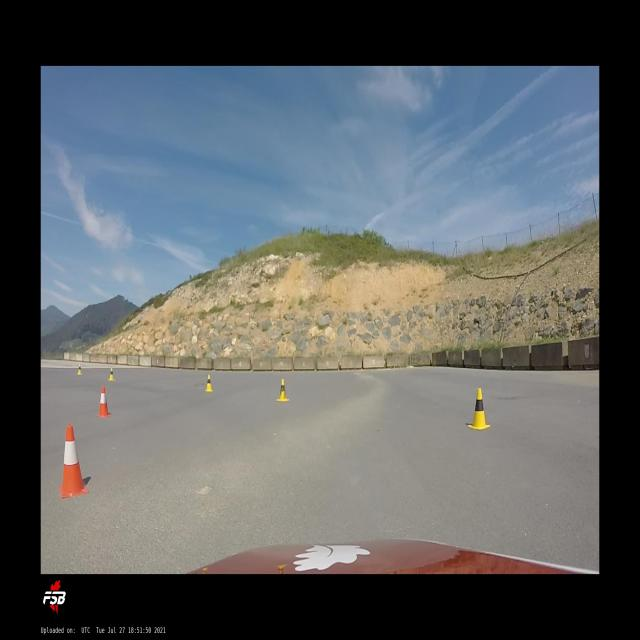orange_cone: (57, 424, 89, 499), (97, 386, 111, 417)
yellow_cone: (468, 388, 491, 430), (276, 379, 290, 402), (204, 374, 214, 392), (108, 368, 115, 381), (77, 364, 83, 375)
